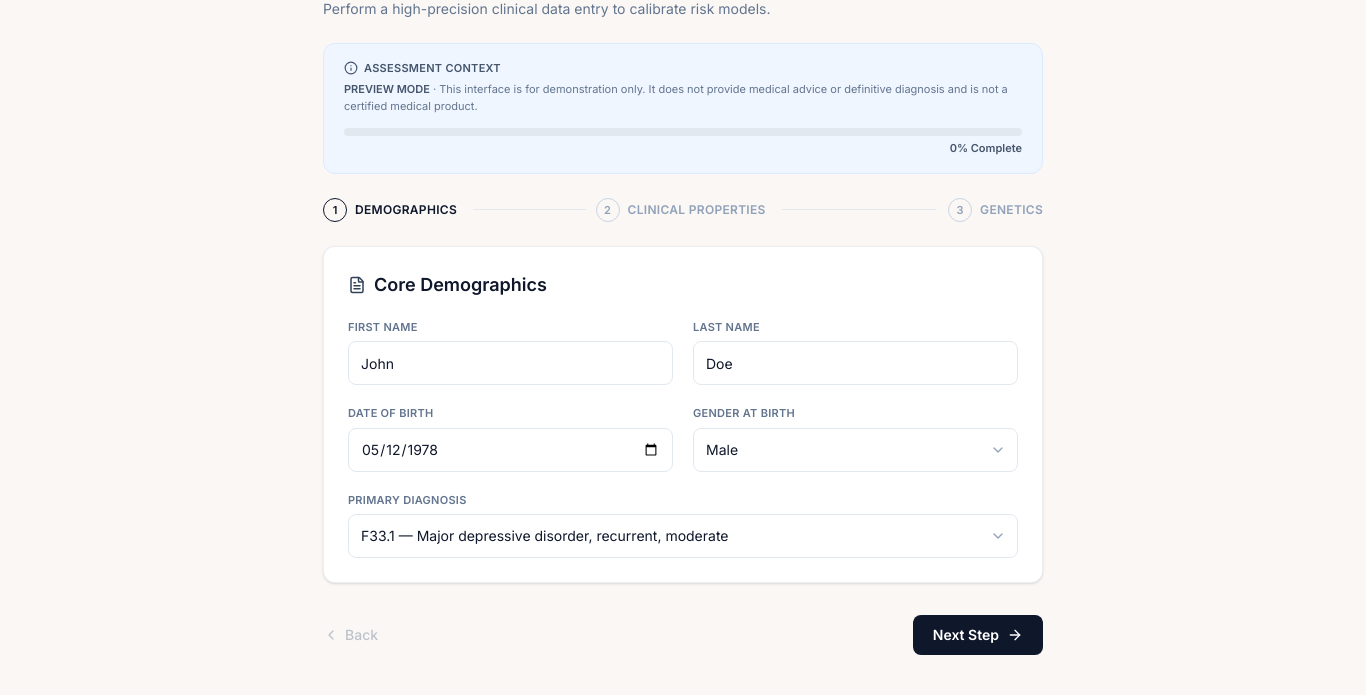
Test: IntakeView › advances through the wizard and reports progress
(page scrolled)
Click the button "Next Step".
click(978, 635)  # box [913, 615, 1043, 655]
(page scrolled)
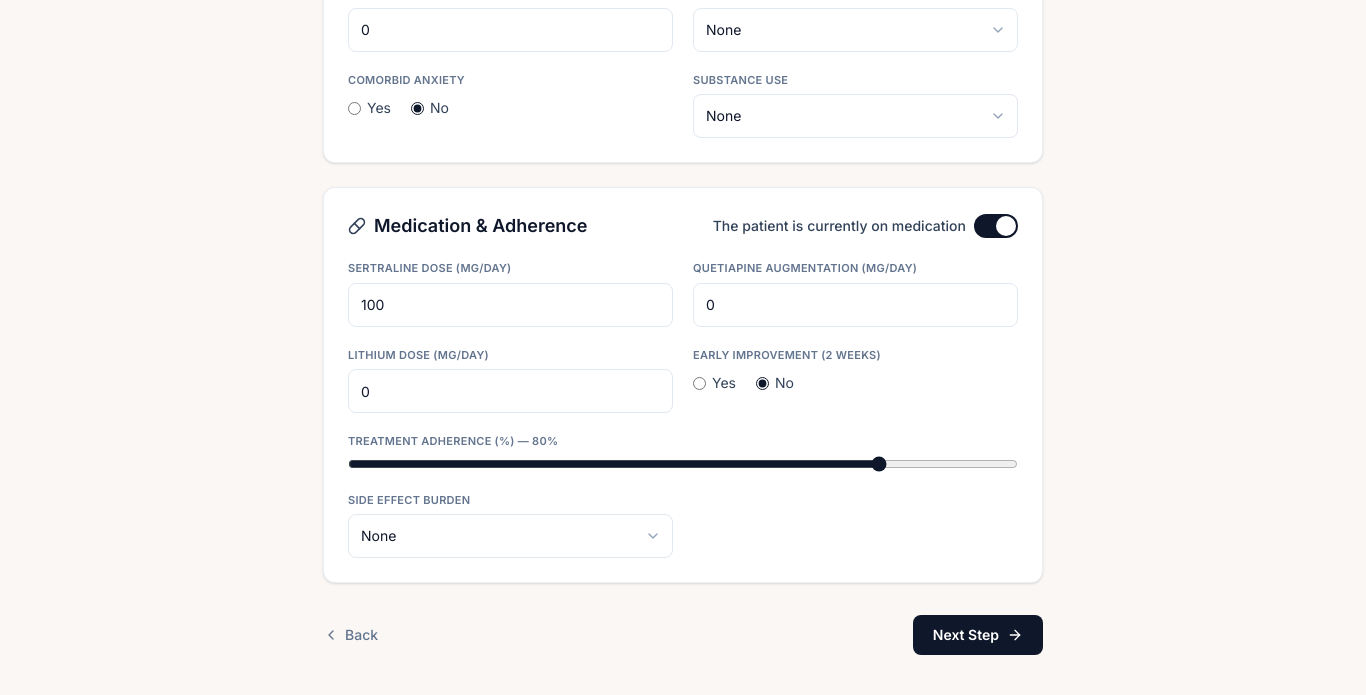
Click the button "Next Step".
click(978, 635)  # box [913, 615, 1043, 655]
(page scrolled)
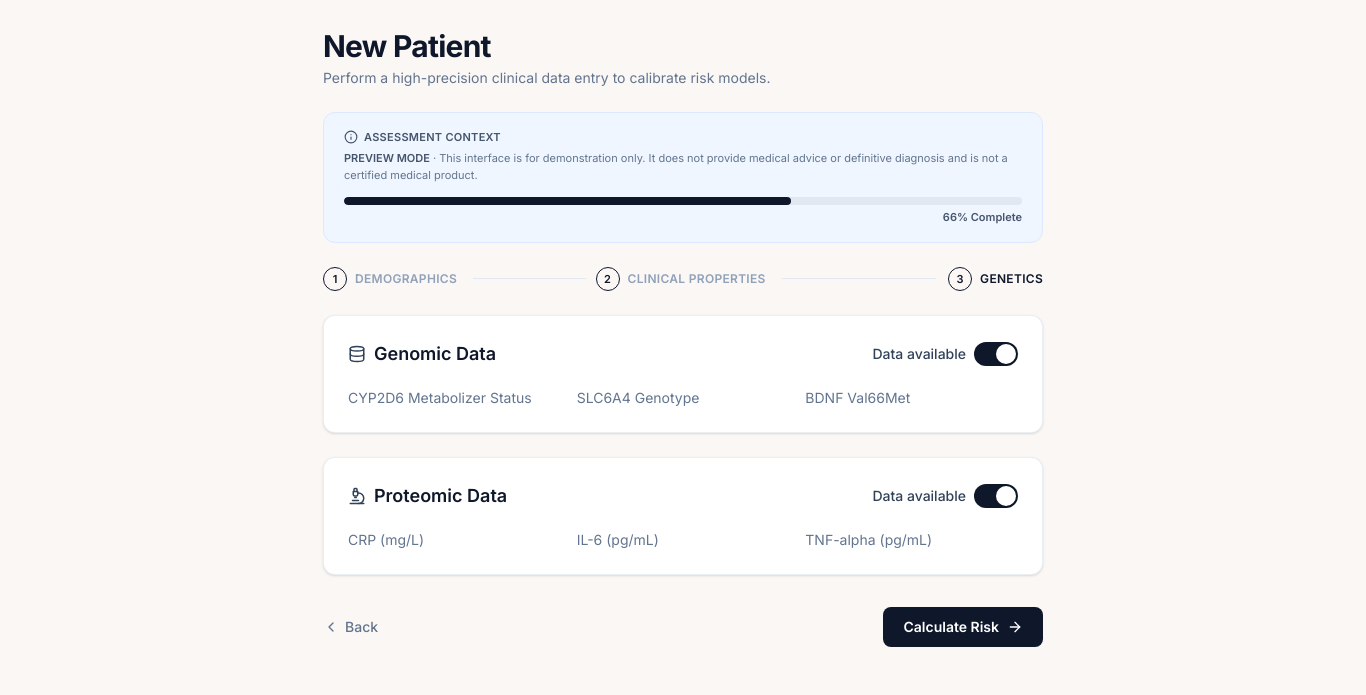
Check: the heading "Genomic Data" is shown, box [374, 340, 496, 368]
Check: the heading "Proteomic Data" is shown, box [374, 482, 507, 510]
Check: the text "66% Complete" is shown, box [943, 210, 1022, 224]
Click the button "Back".
click(351, 627)  # box [323, 617, 378, 637]
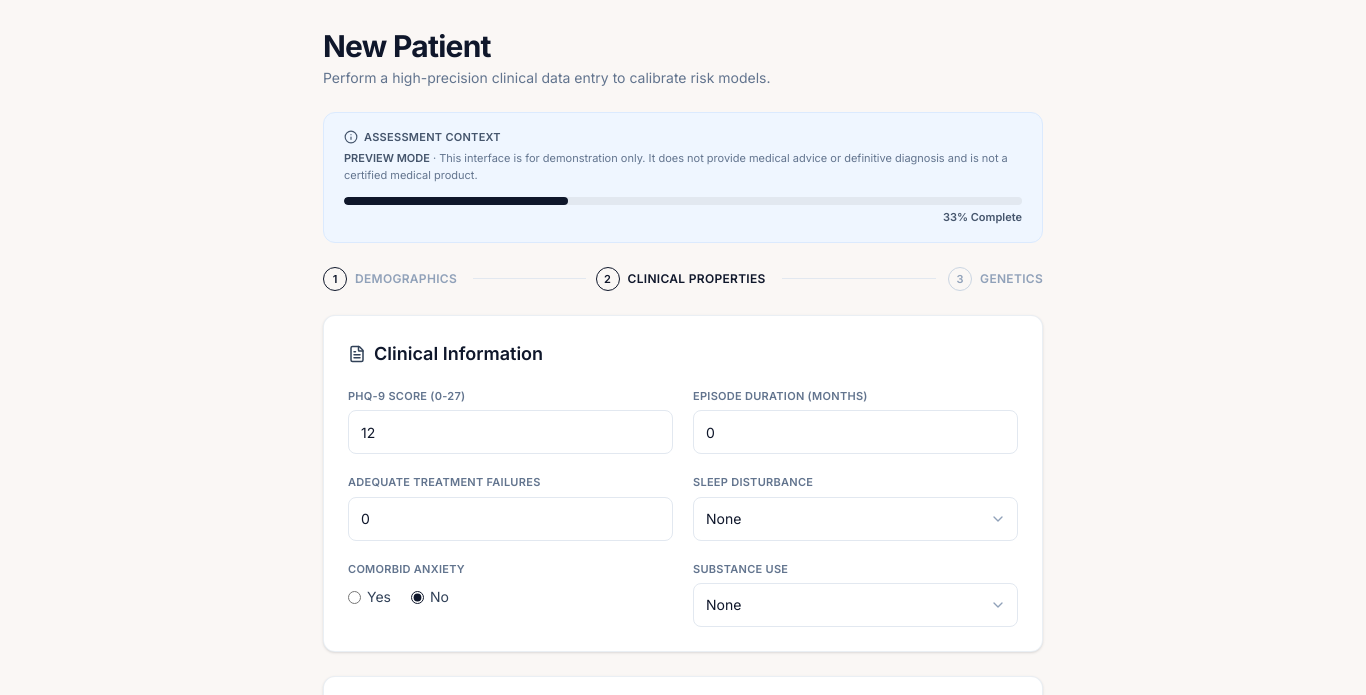
Check: the heading "Clinical Information" is shown, box [374, 340, 543, 368]
